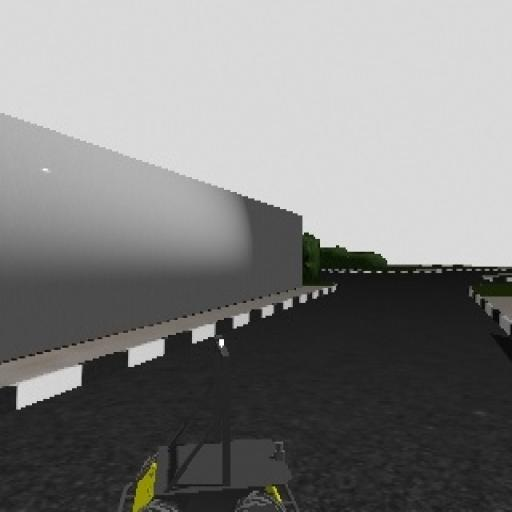huskya200: (106, 326, 302, 512)
